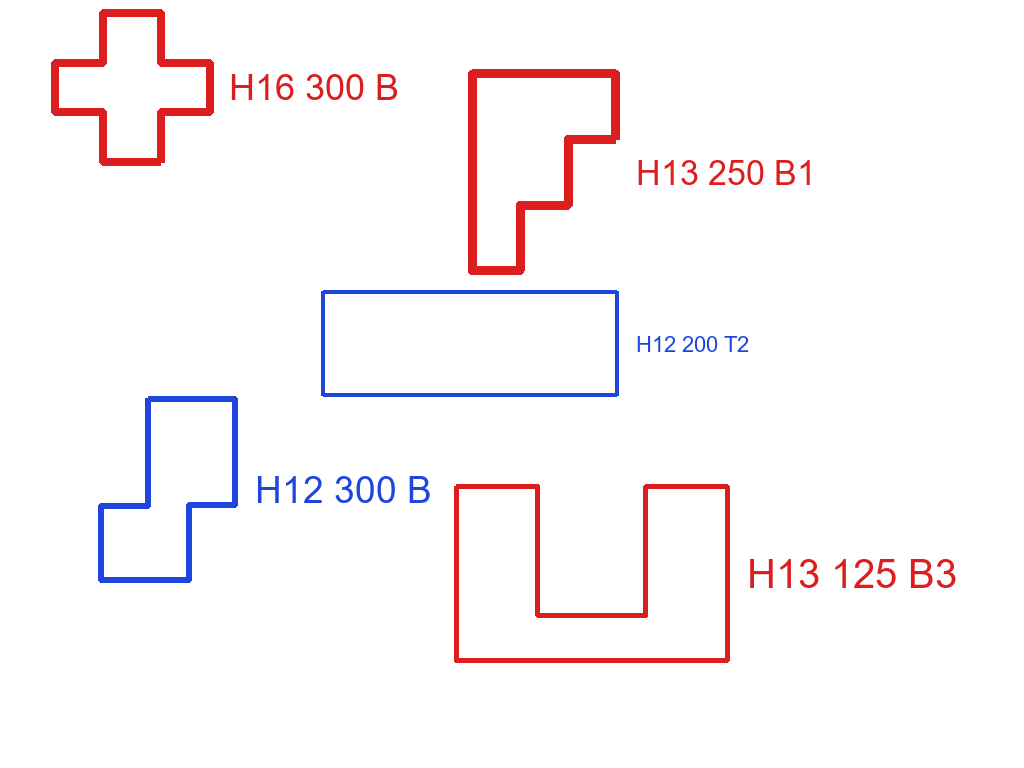shape: (452, 482, 732, 665), (319, 287, 620, 400), (466, 67, 622, 277), (97, 394, 240, 586), (50, 6, 215, 169)
text: (745, 557, 959, 590), (253, 474, 434, 505), (634, 158, 818, 187), (227, 72, 401, 102), (634, 334, 751, 354)
